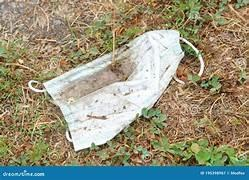Mask: (29, 30, 203, 150)
